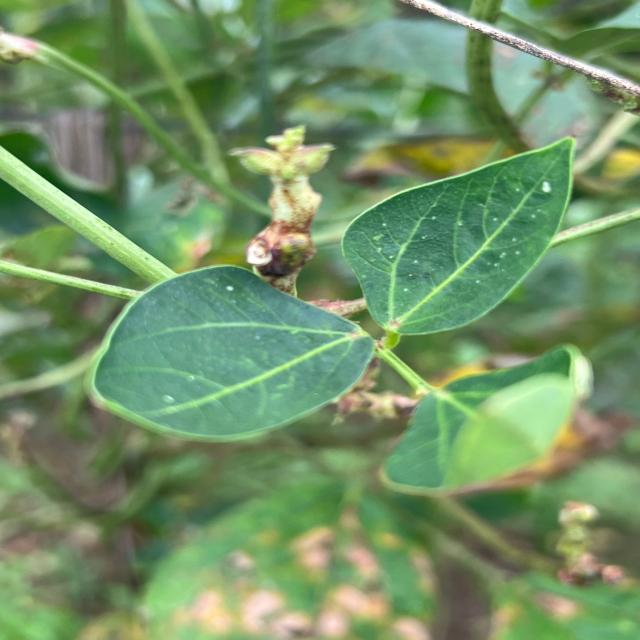sitaw-aphid-high: (89, 265, 374, 442), (342, 138, 574, 335)
